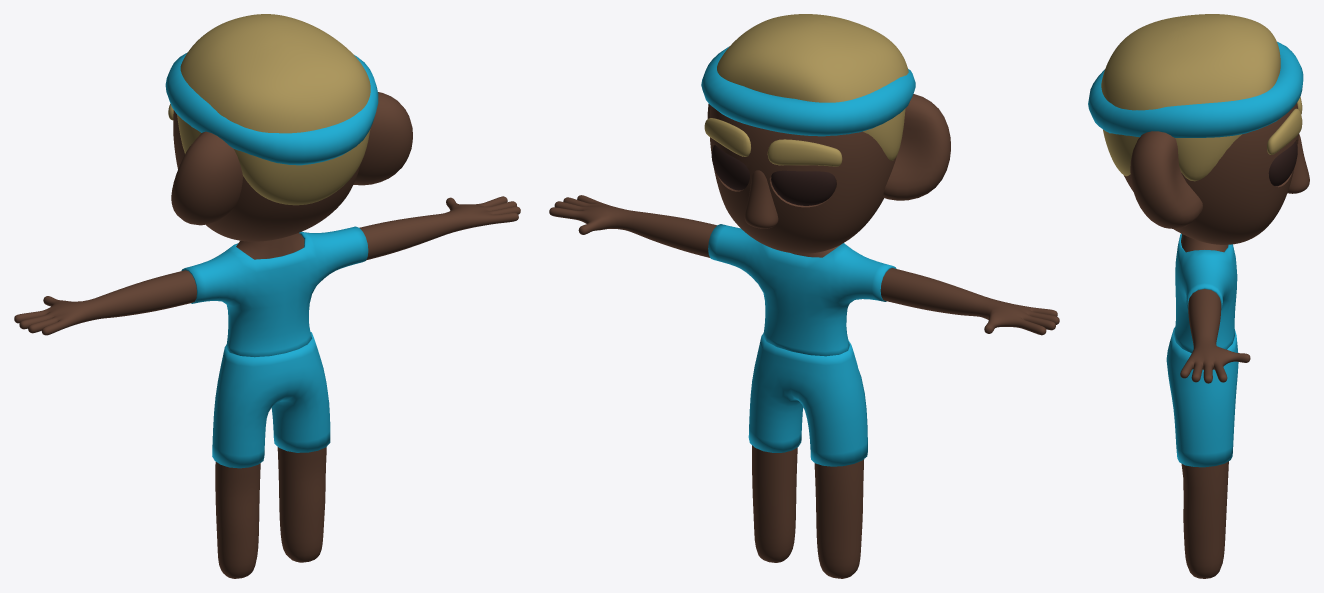
File: BodyMaleAthlete1.fbx
3 views of the same model, side by side, from view 1: azimuth 30°, elevation 25°; view 2: azimuth 150°, elevation 25°; view 3: azimuth 270°, elevation 25° (orthographic).
Parts seen in each view (by area): view 1: Hairbase.003, Body.006, Head.005, Shirt.002, shorts, headband; view 2: Head.005, Body.006, Hairbase.003, Shirt.002, shorts, headband, Brows.004; view 3: Hairbase.003, Head.005, Body.006, headband, shorts, Shirt.002, Brows.004.
Boxes of the visible parts, x1,y1,x2,y2 form: Hairbase.003: (177, 14, 370, 205); Body.006: (14, 196, 520, 578); Head.005: (171, 92, 412, 241); Shirt.002: (181, 226, 368, 357); shorts: (212, 332, 330, 468); headband: (165, 52, 378, 165); Head.005: (707, 94, 950, 253); Body.006: (549, 195, 1059, 578); Hairbase.003: (717, 14, 908, 160); Shirt.002: (708, 224, 896, 356); shorts: (748, 333, 867, 466); headband: (701, 46, 915, 136); Brows.004: (704, 118, 842, 166); Hairbase.003: (1101, 14, 1280, 181); Head.005: (1124, 102, 1309, 244); Body.006: (1180, 234, 1250, 578); headband: (1088, 41, 1303, 137); shorts: (1166, 327, 1238, 467); Shirt.002: (1174, 233, 1237, 353); Brows.004: (1267, 97, 1302, 154).
Bounding box in the file's own units: 172 × 178 × 66.95.
